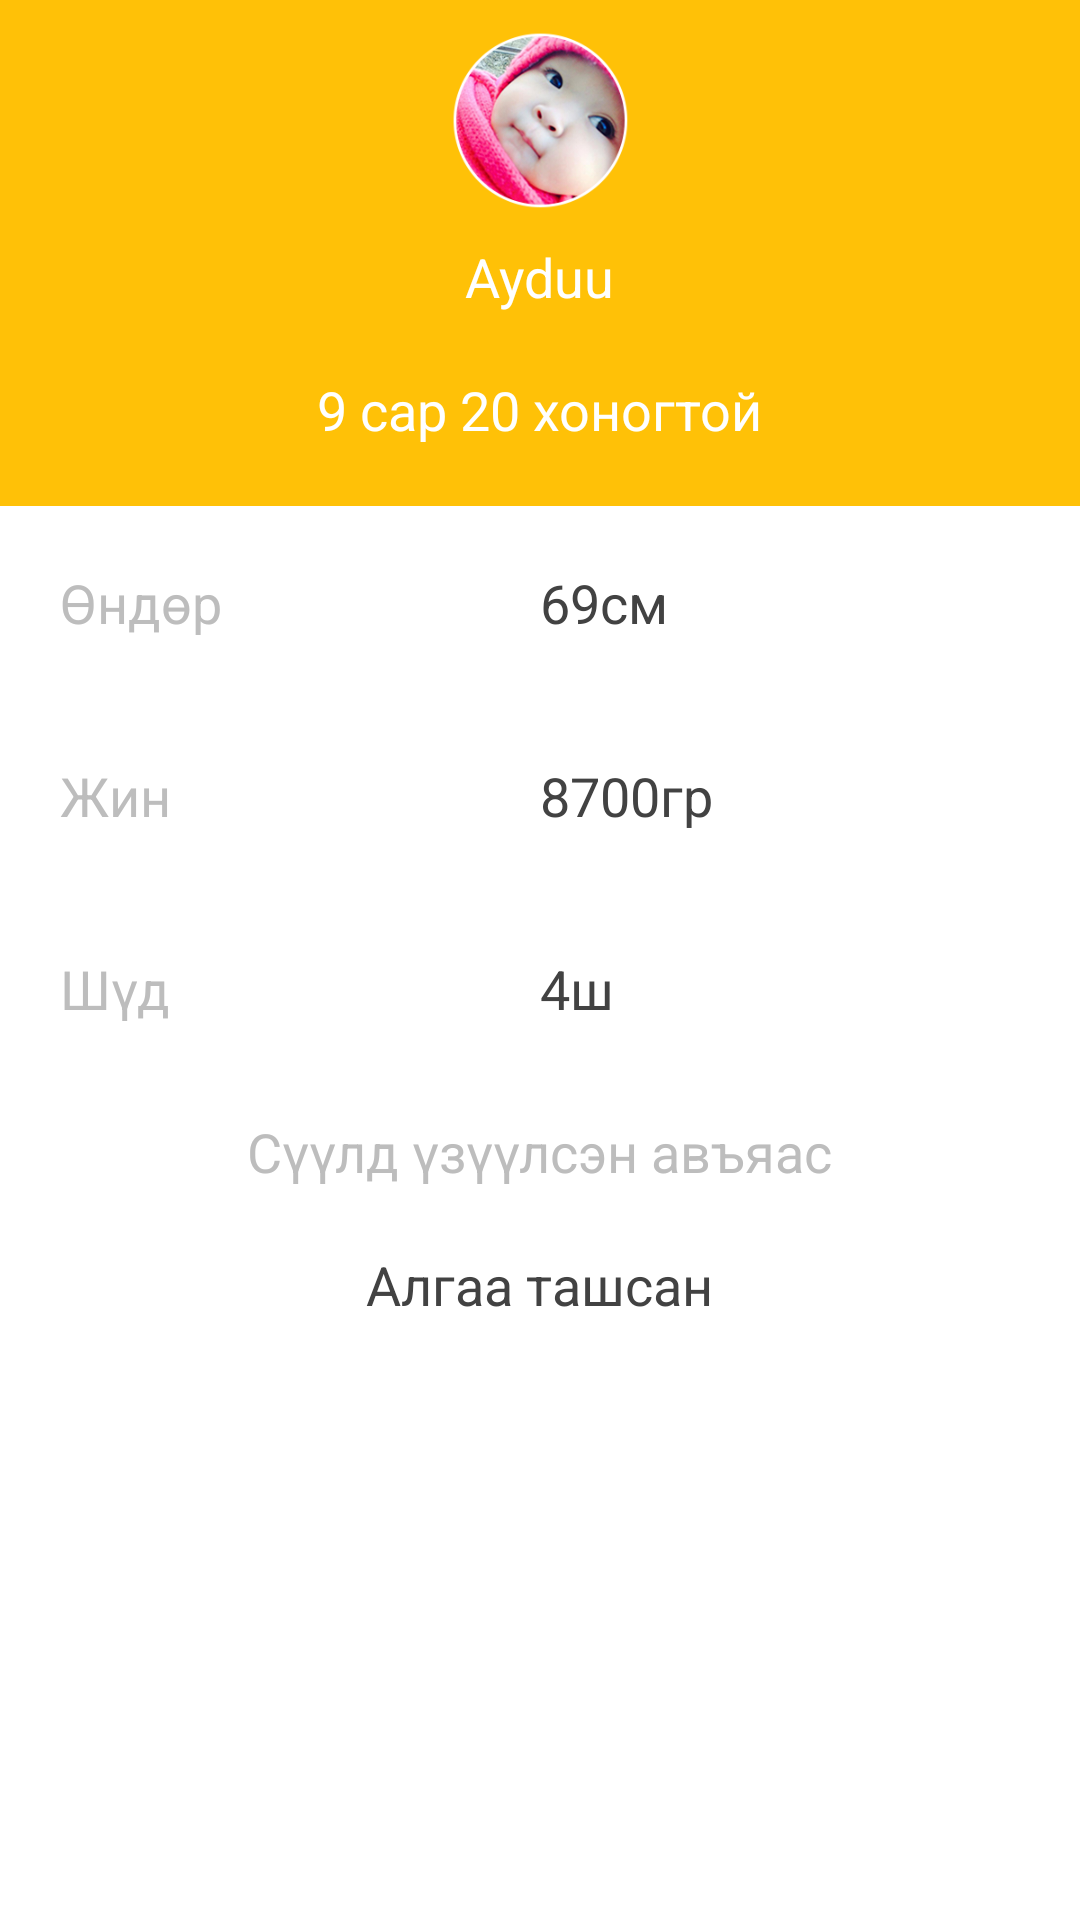

Point at icon controls on the screen. Image size 1080px x 1920px, points as (x=x, y=y).
baby profile: (x=540, y=120)
